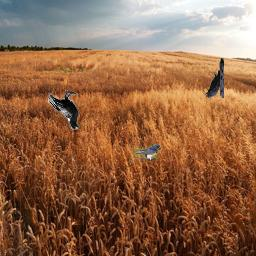Crow: (48, 90, 80, 130), (205, 58, 224, 98)
Swallow: (129, 144, 161, 161)
